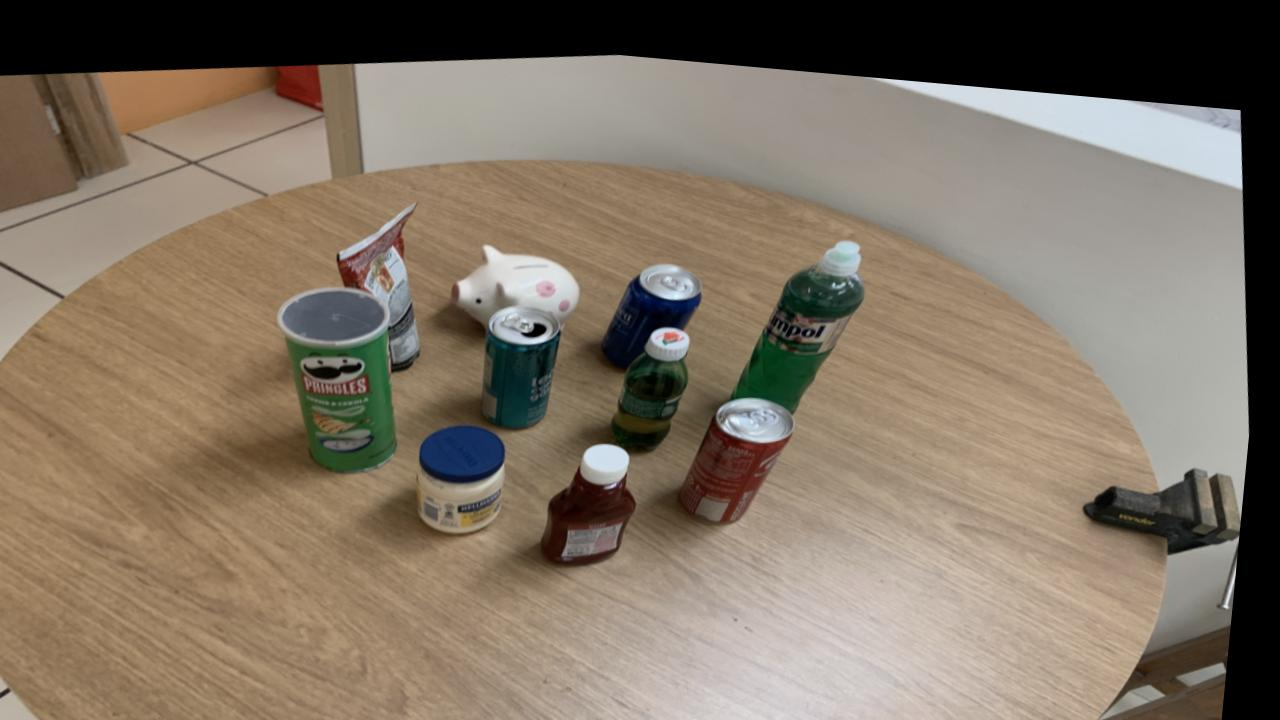Coke-Drinks: (687, 383, 801, 508)
Detergent-Cleanup_Items: (739, 225, 870, 397)
Guarana-Drinks: (620, 313, 695, 437)
Ketchup-Pantry_Items: (551, 431, 645, 554)
Mayonnaise-Pantry_Items: (425, 416, 513, 524)
Pig_Safe-Miscellaneous: (456, 236, 585, 315)
Pringles-Snacks: (282, 280, 406, 465)
Tea-Drinks: (489, 296, 567, 417)
Tomato_Sauce-Pantry_Items: (342, 197, 427, 363)
Tonic-Drinks: (607, 251, 705, 355)
